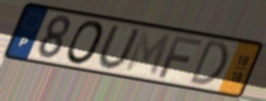8: (35, 14, 72, 61)
D: (186, 38, 229, 87)
F: (156, 35, 205, 80)
M: (123, 28, 174, 78)
O: (65, 19, 106, 67)
U: (97, 24, 142, 72)
